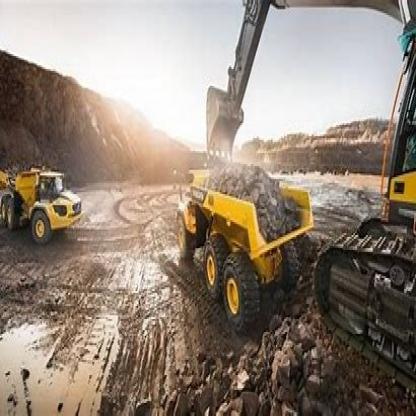dump_truck: (166, 156, 314, 336), (0, 160, 84, 250)
